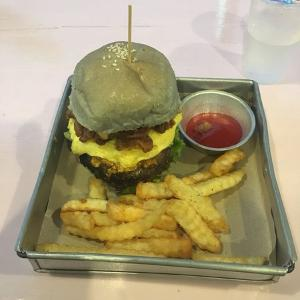cheeseburger_475cal: (63, 40, 183, 175)
fries_350cal: (52, 174, 260, 263)
